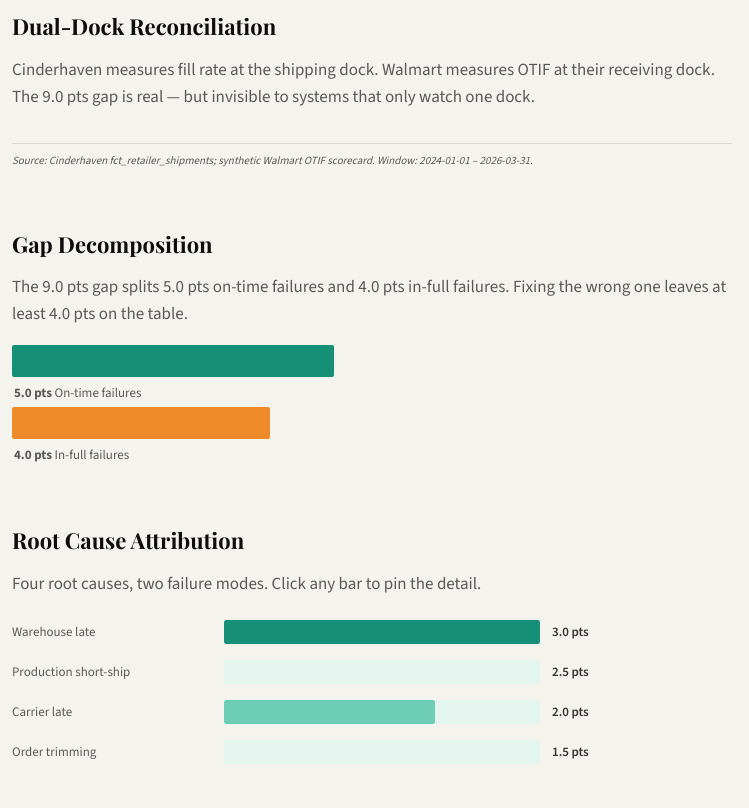
Move 3: root cause click-to-pin › shows pin card when a bar is clicked
This screenshot has width=749, height=808.
Click the button "Warehouse late 3.0 pts" at [312, 632], box [12, 614, 612, 650]
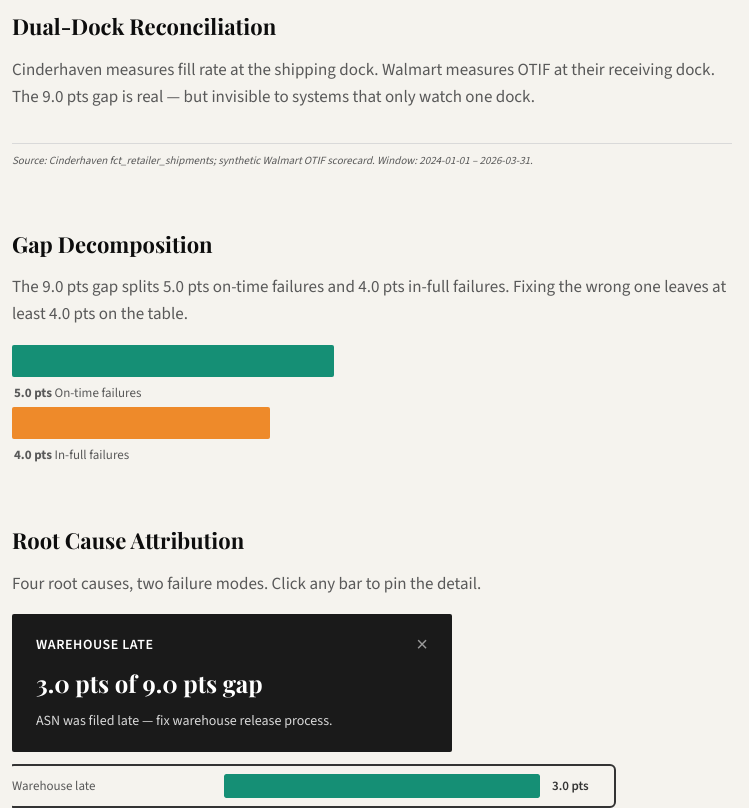
Expected: the message is shown, [12, 614, 452, 752]
Expected: the text "3.0 pts of 9.0 pts gap" is shown, [36, 667, 263, 699]
